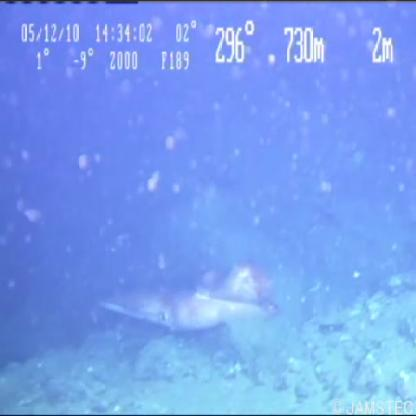Bio: (88, 256, 284, 338)
